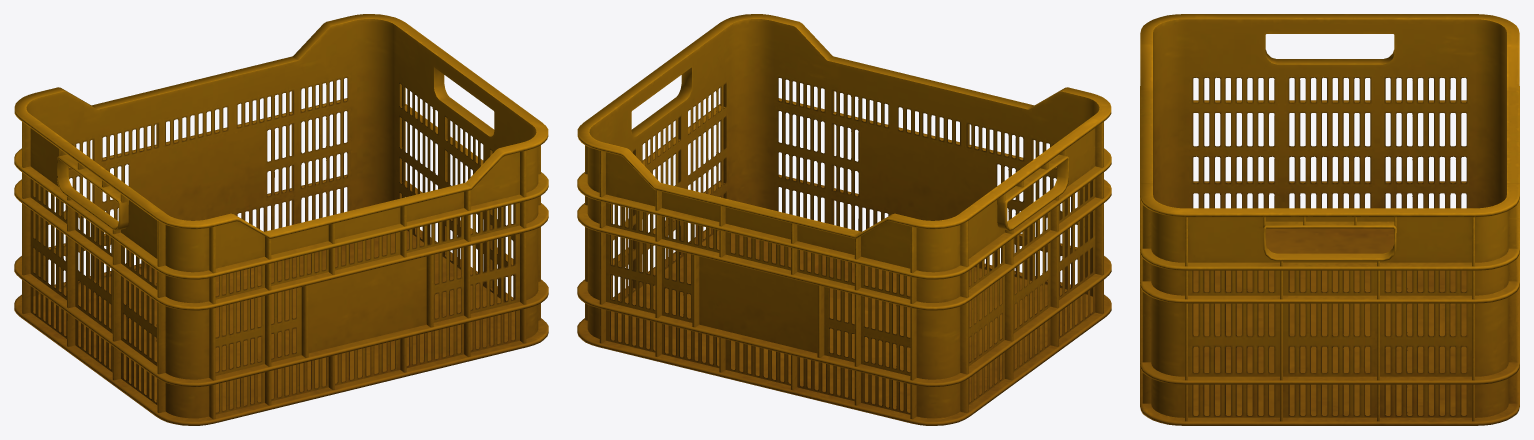
The model's file is plastic_crate_02.glb.
3 views of the same model, side by side, from view 1: azimuth 30°, elevation 25°; view 2: azimuth 150°, elevation 25°; view 3: azimuth 270°, elevation 25° (orthographic). The views are drawn at different scales.
Visible parts, largest first — view 1: crate_LOD0; view 2: crate_LOD0; view 3: crate_LOD0.
Part boxes in pixels (x1,y1,x2,y2): crate_LOD0: (14, 14, 548, 425); crate_LOD0: (577, 14, 1111, 425); crate_LOD0: (1140, 14, 1519, 425).
Size of what is drawn, in the model's own units: 0.5056 by 0.254 by 0.4055.
1 material, 1 textured.
